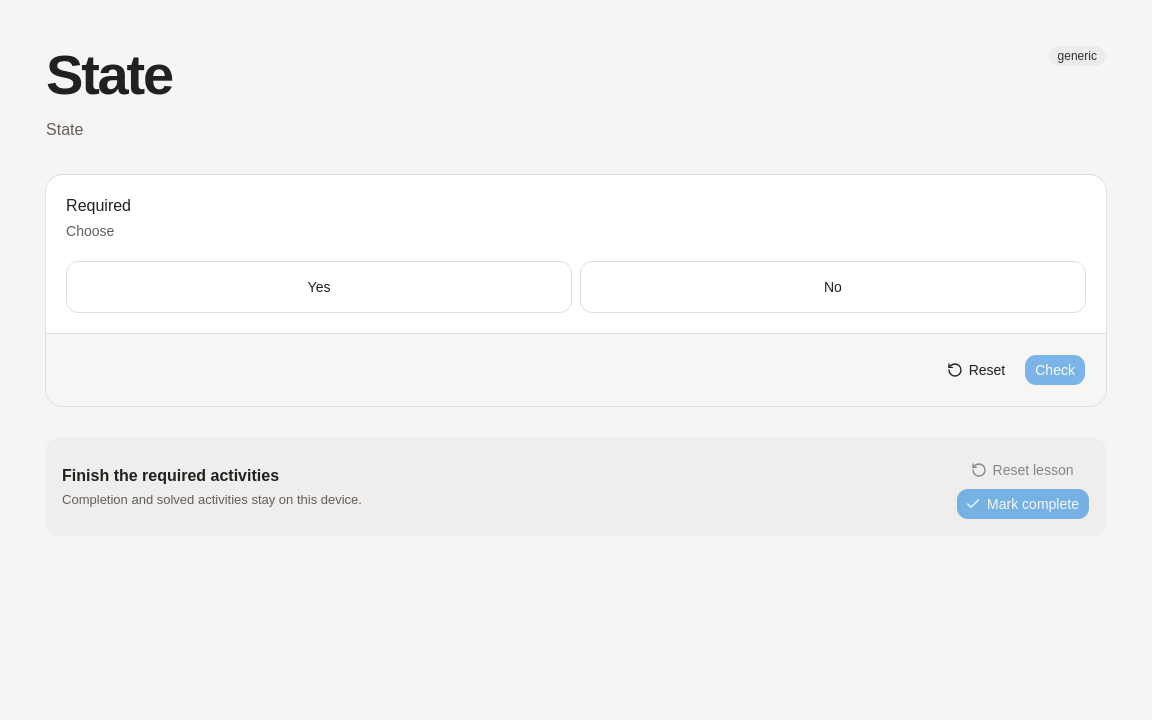
Test case: lesson shell › requires solved activities before completion and resets the whole lesson
Check: the button "Mark complete" is disabled, box [956, 488, 1090, 520]
Click the radio button labelled "Yes" at [319, 287], box [66, 261, 572, 313]
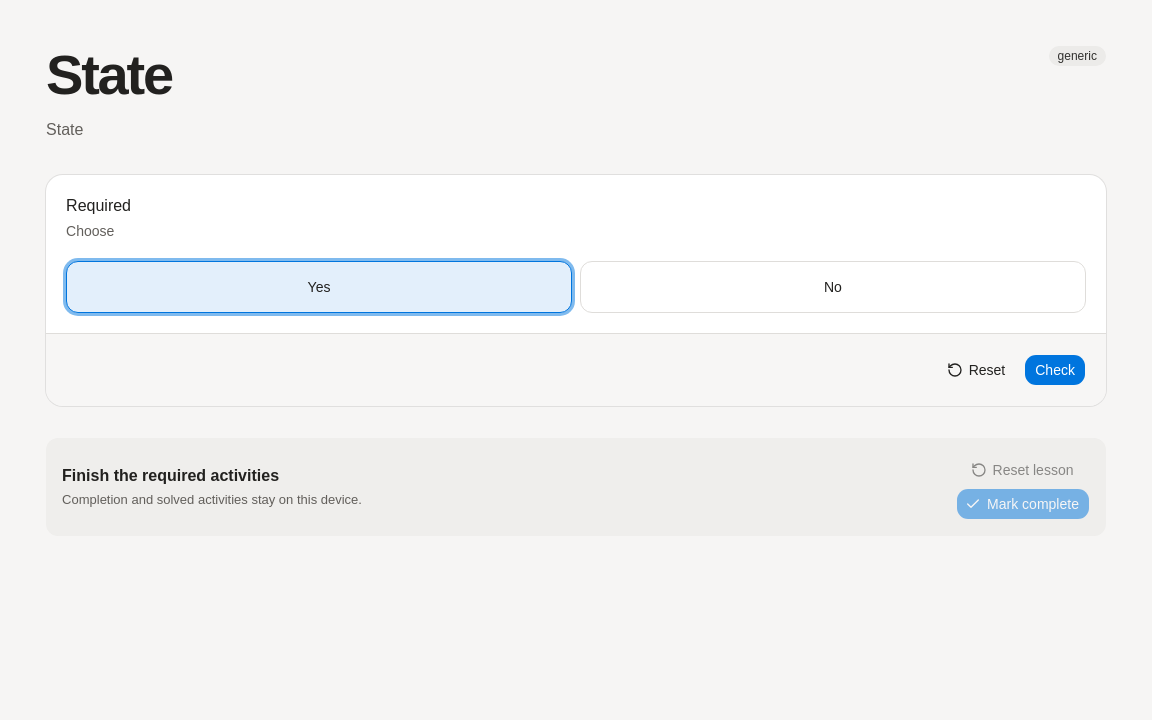
Click the button "Check" at [1055, 370], box [1024, 354, 1086, 386]
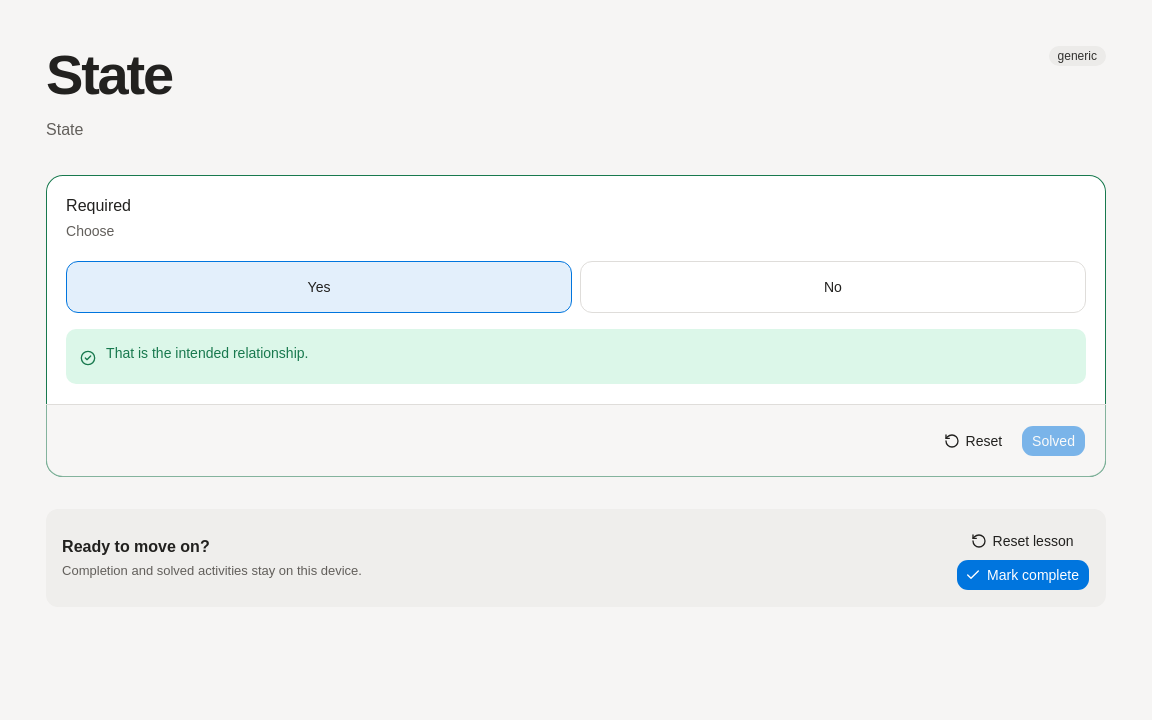
Check: the button "Mark complete" is enabled
Click the button "Mark complete" at [1023, 575], box [956, 559, 1090, 591]
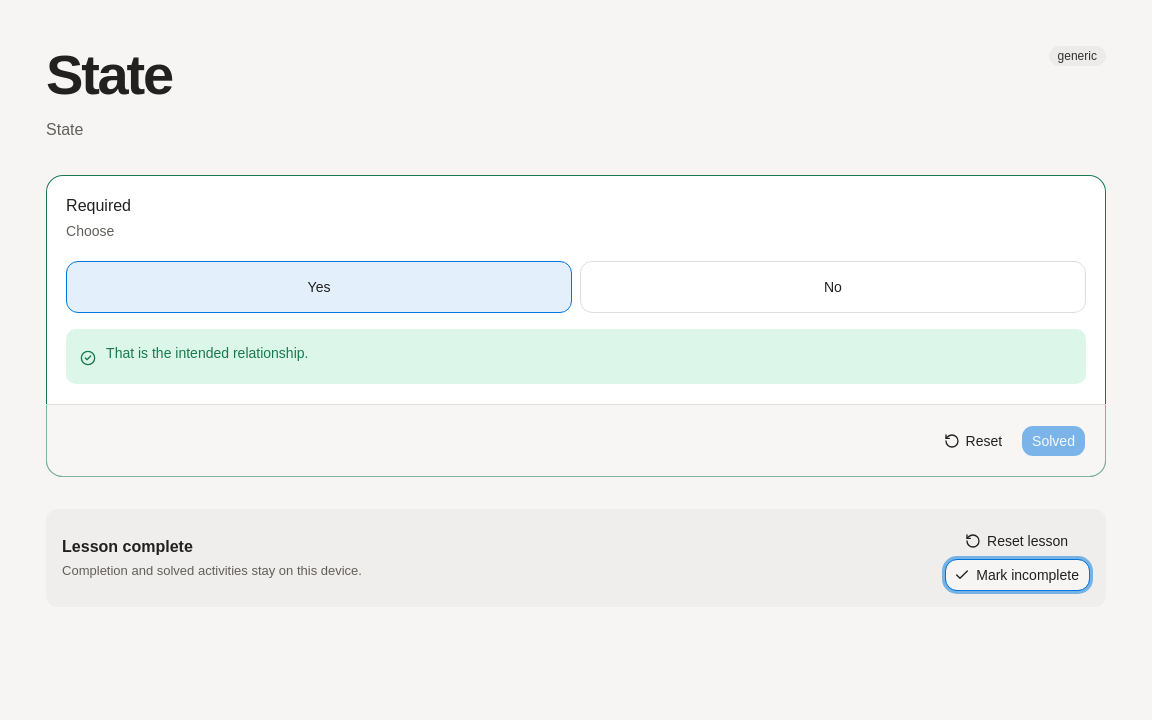
Check: the text "Lesson complete" is shown, box [62, 538, 193, 555]
Click the button "Mark incomplete" at [1018, 575], box [945, 559, 1090, 591]
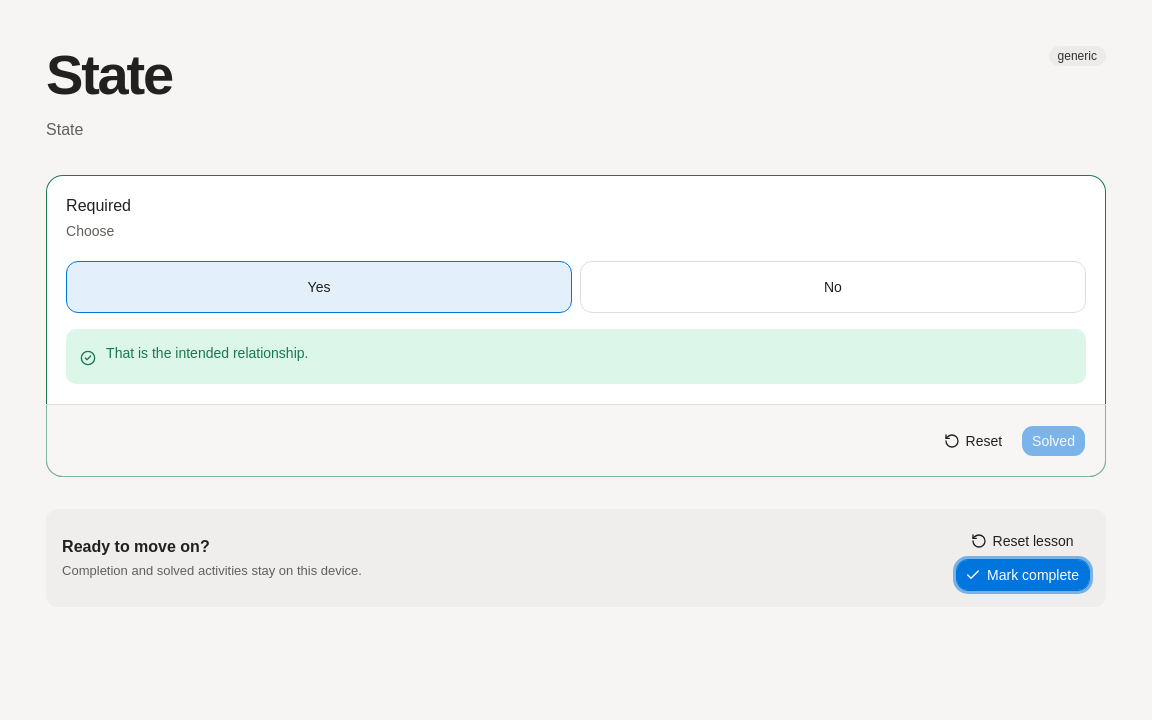
Check: the button "Solved" is disabled, box [1021, 425, 1086, 457]
Click the button "Reset lesson" at [1023, 541], box [956, 525, 1090, 557]
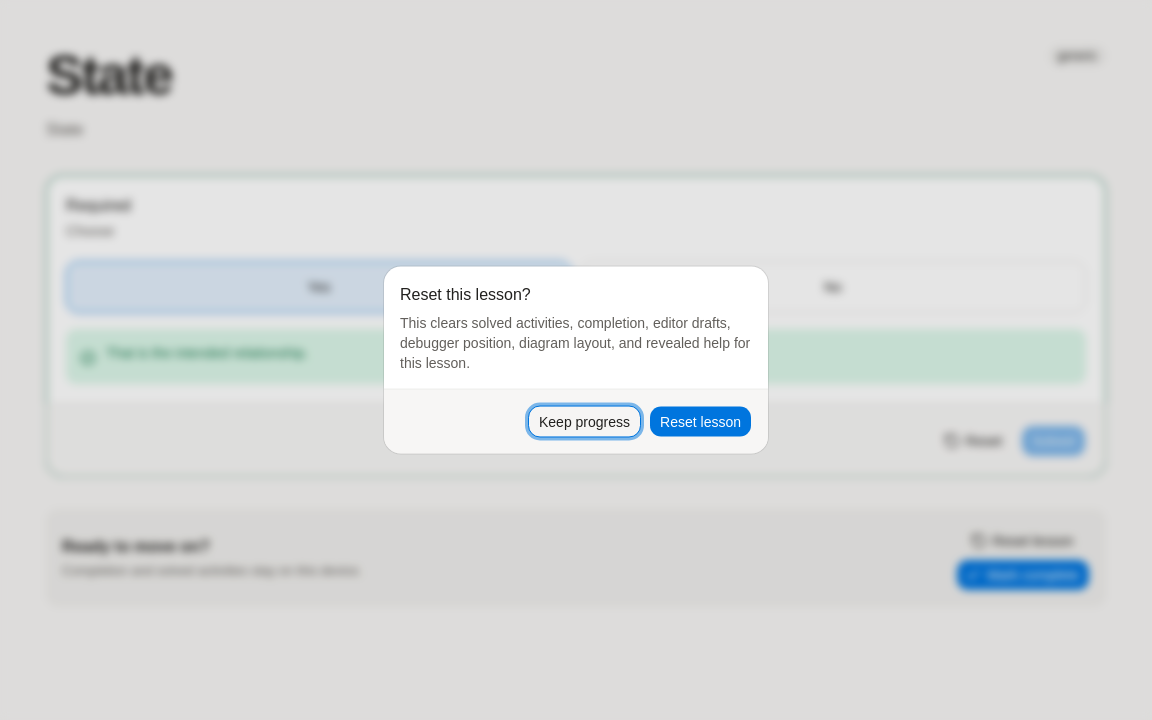
Check: the dialog shows "editor drafts", box [400, 314, 750, 370]
Click the button "Reset lesson" at [701, 422], box [649, 406, 752, 438]
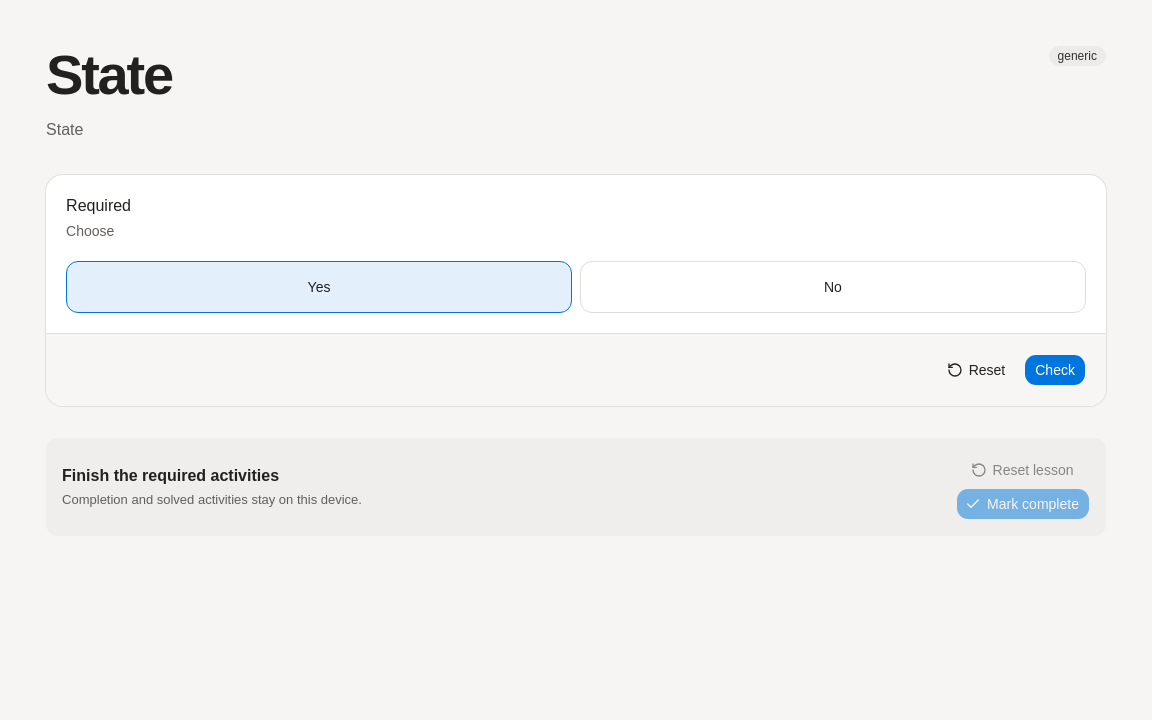
Check: the button "Check" is enabled, box [1024, 354, 1086, 386]
